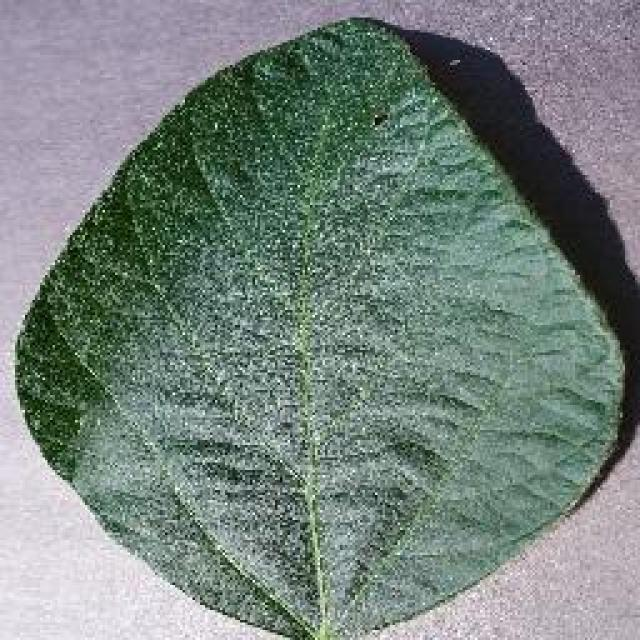Soy_healthy: (55, 105, 594, 568)
